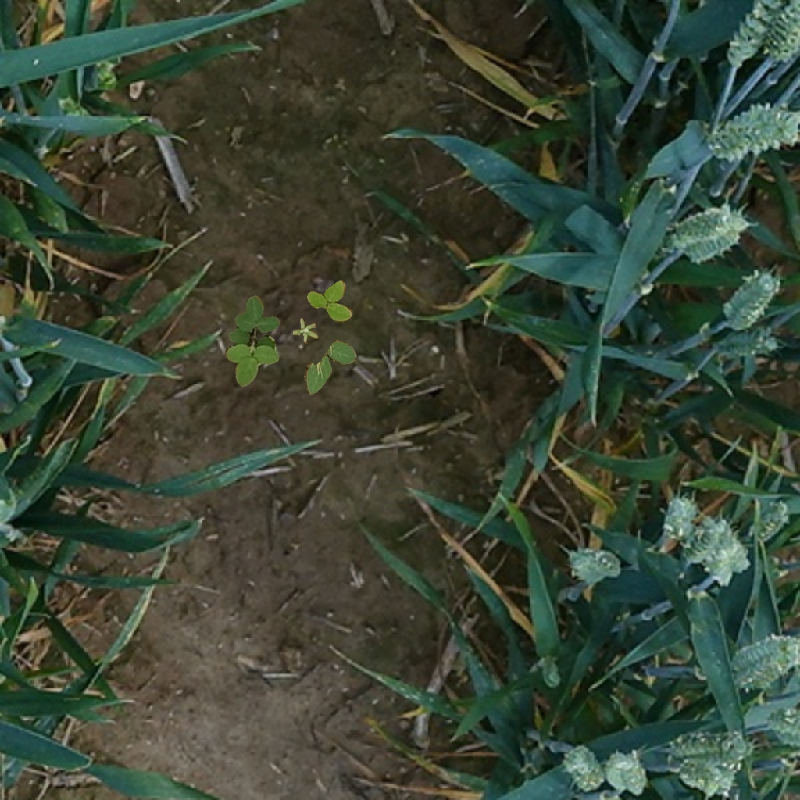spikelet: (707, 102, 799, 164), (728, 631, 800, 691), (722, 1, 782, 69), (717, 268, 781, 330), (669, 200, 732, 246), (700, 532, 753, 585), (677, 756, 743, 797), (760, 1, 800, 67), (671, 724, 749, 756), (564, 544, 623, 585), (679, 228, 742, 263), (712, 328, 782, 358), (602, 749, 649, 792), (679, 514, 717, 566), (561, 746, 603, 793), (660, 494, 697, 542), (763, 706, 800, 752), (746, 496, 783, 542)
weed: (219, 290, 282, 387), (303, 342, 364, 396), (304, 270, 368, 321), (294, 318, 320, 344)
